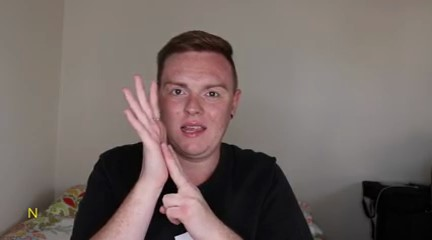N: (116, 70, 212, 229)
